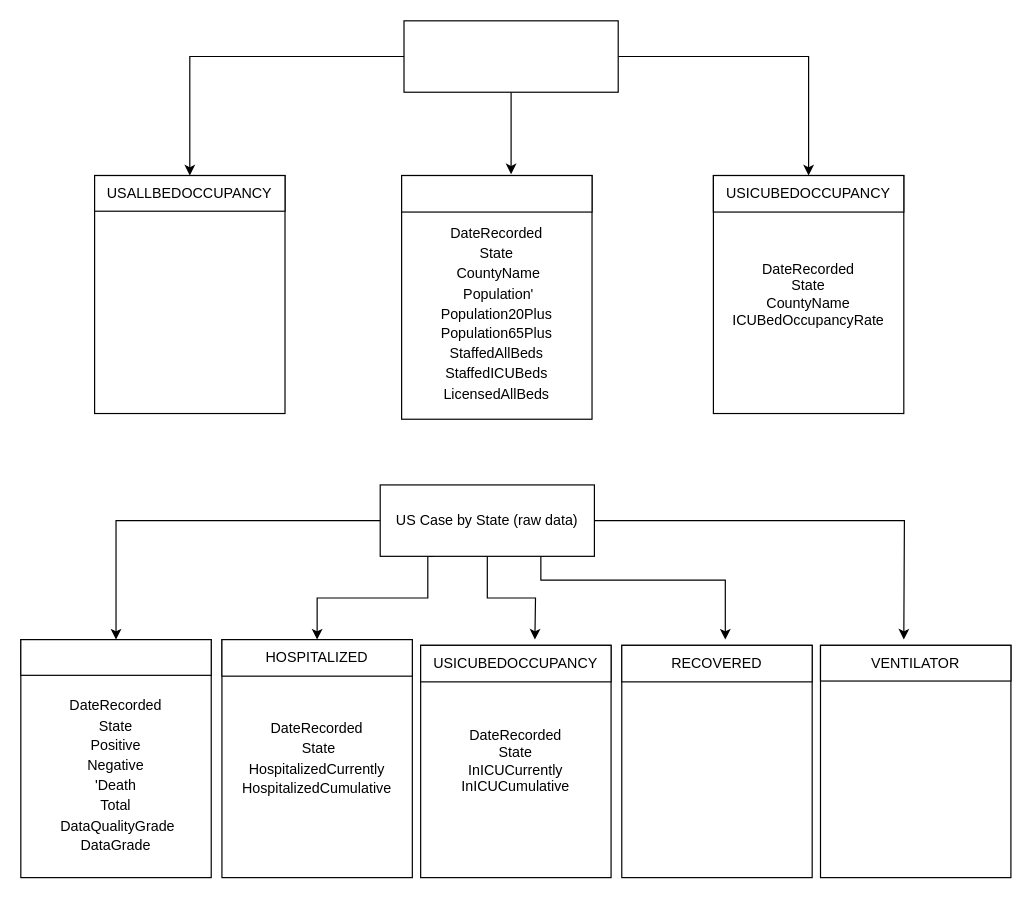
Image size: 1032x898. Some labels were removed from this diagram. Here are the shapes that lost their labels. From the top down, the box of each, then its label:
(403, 20, 618, 92): USFacilities(raw data)
(400, 174, 592, 212): USFACILITIES
(93, 174, 285, 414): DateRecorded State CountyName AllBedOccupancyRate
(20, 638, 211, 675): USCASEBYSTATE
(621, 644, 812, 878): DateRecorded State Recovered
(819, 644, 1011, 878): DateRecorded State OnVentilatorCurrently OnVentilatorCumulative
